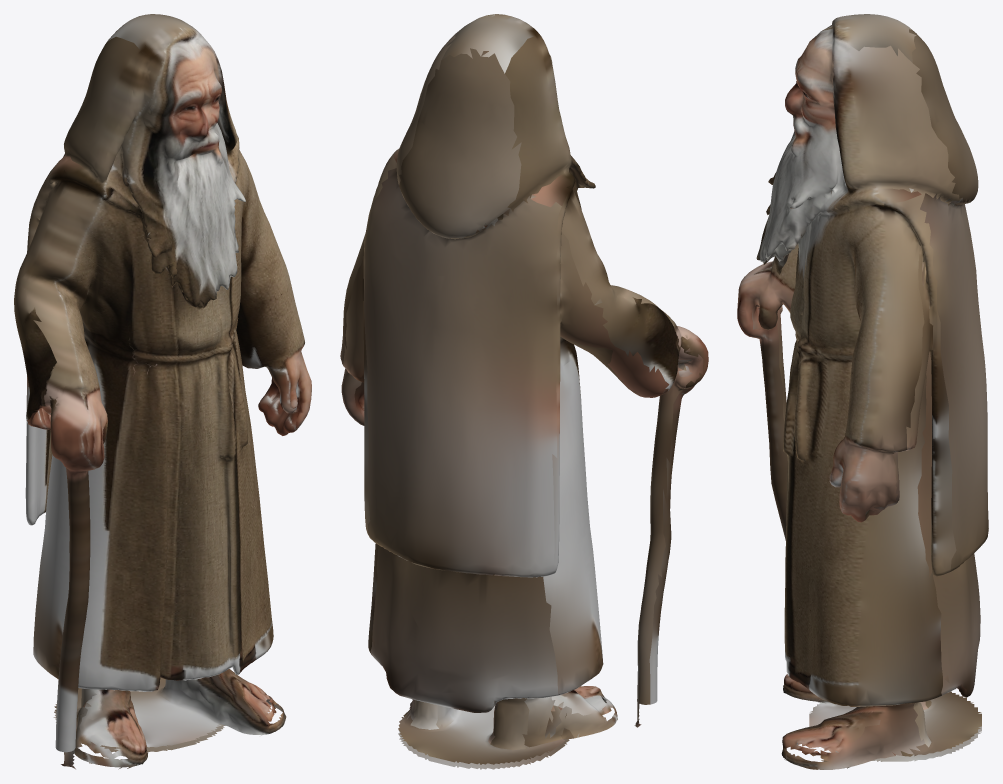
Rendered from saren.glb.
3 views of the same model, side by side, from view 1: azimuth 30°, elevation 25°; view 2: azimuth 150°, elevation 25°; view 3: azimuth 270°, elevation 25° (orthographic).
Visible parts, largest first — view 1: perso; view 2: perso; view 3: perso.
Part boxes in pixels (<box>): perso: <box>14,14,311,769</box>; perso: <box>340,14,708,769</box>; perso: <box>737,14,988,769</box>.
Size of the model in its own units: 0.7471 by 1.64 by 0.5275.
Materials: 1 (1 with a texture image).
